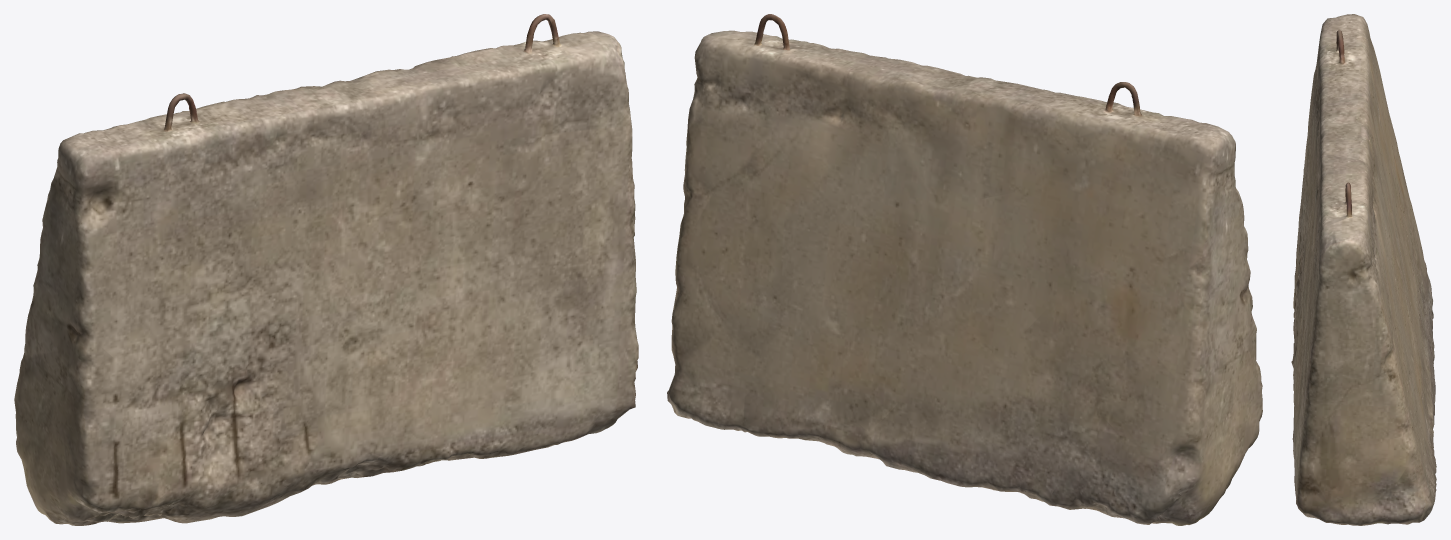
The model's file is concrete_road_barrier_02.glb.
3 renders of one model, left to right at view 1: azimuth 30°, elevation 25°; view 2: azimuth 150°, elevation 25°; view 3: azimuth 270°, elevation 25°, orthographic. The views are drawn at different scales.
Visible parts, largest first — view 1: concrete_road_barrier_02; view 2: concrete_road_barrier_02; view 3: concrete_road_barrier_02.
Boxes of the visible parts, bbox=[...] form: concrete_road_barrier_02: bbox=[14, 14, 638, 525]; concrete_road_barrier_02: bbox=[667, 14, 1262, 525]; concrete_road_barrier_02: bbox=[1291, 14, 1436, 525].
Size of the model in its own units: 1.57 by 1.11 by 0.4422.
Materials: 1 (1 with a texture image).
